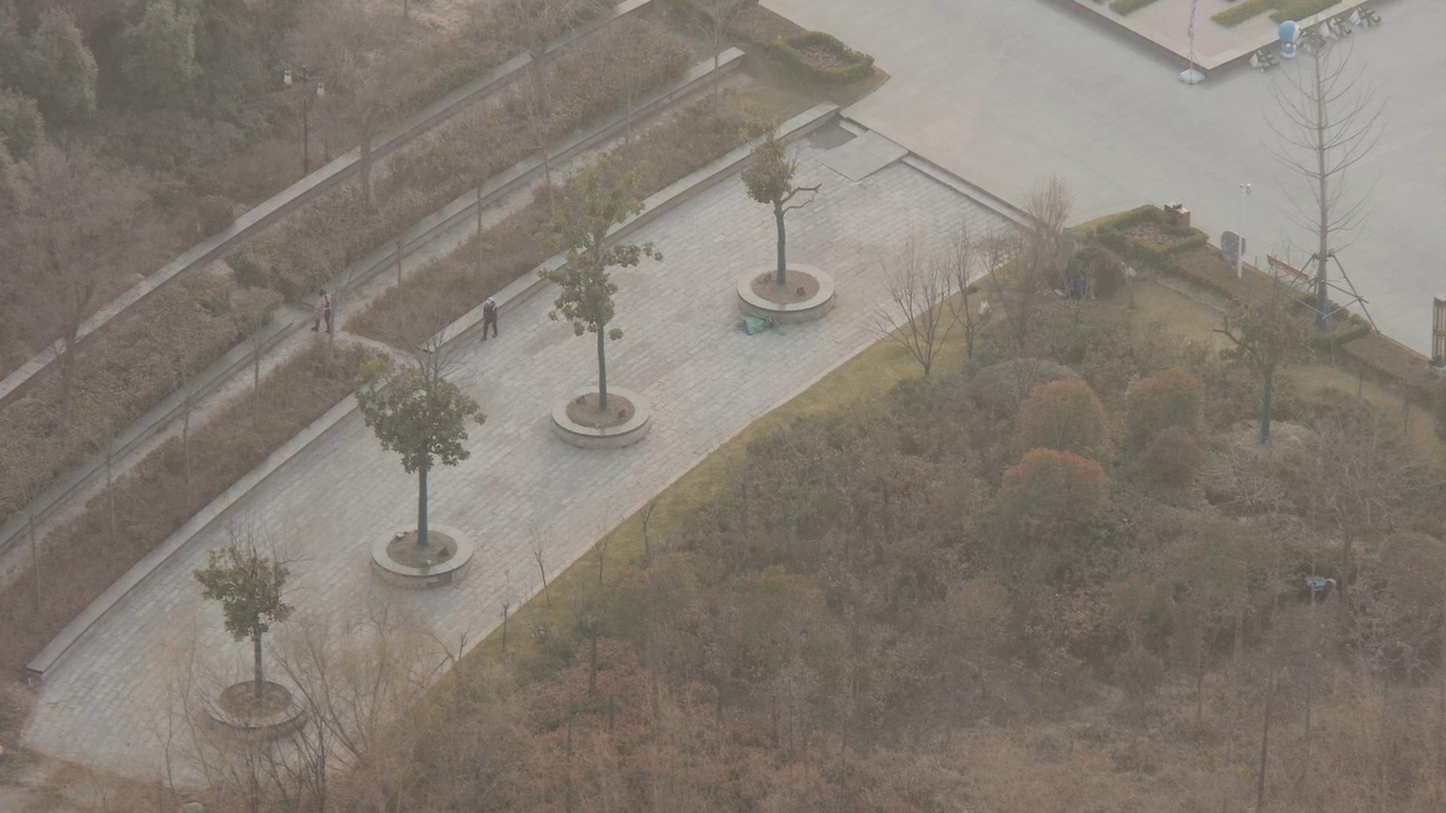human: (474, 266, 509, 339), (320, 263, 346, 334)
